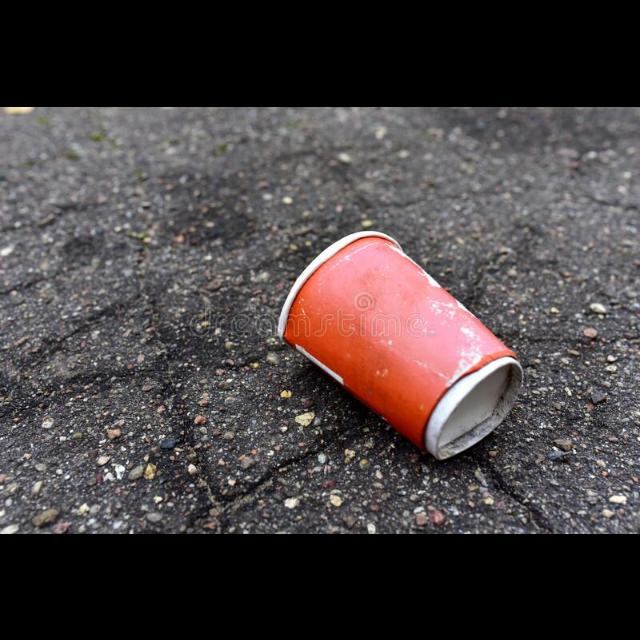trash: (276, 228, 526, 462)
